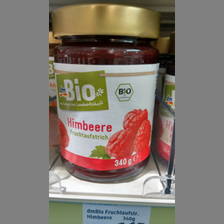jam: (51, 3, 162, 184)
